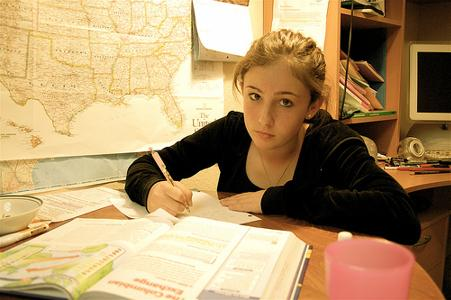person: (124, 31, 423, 247)
